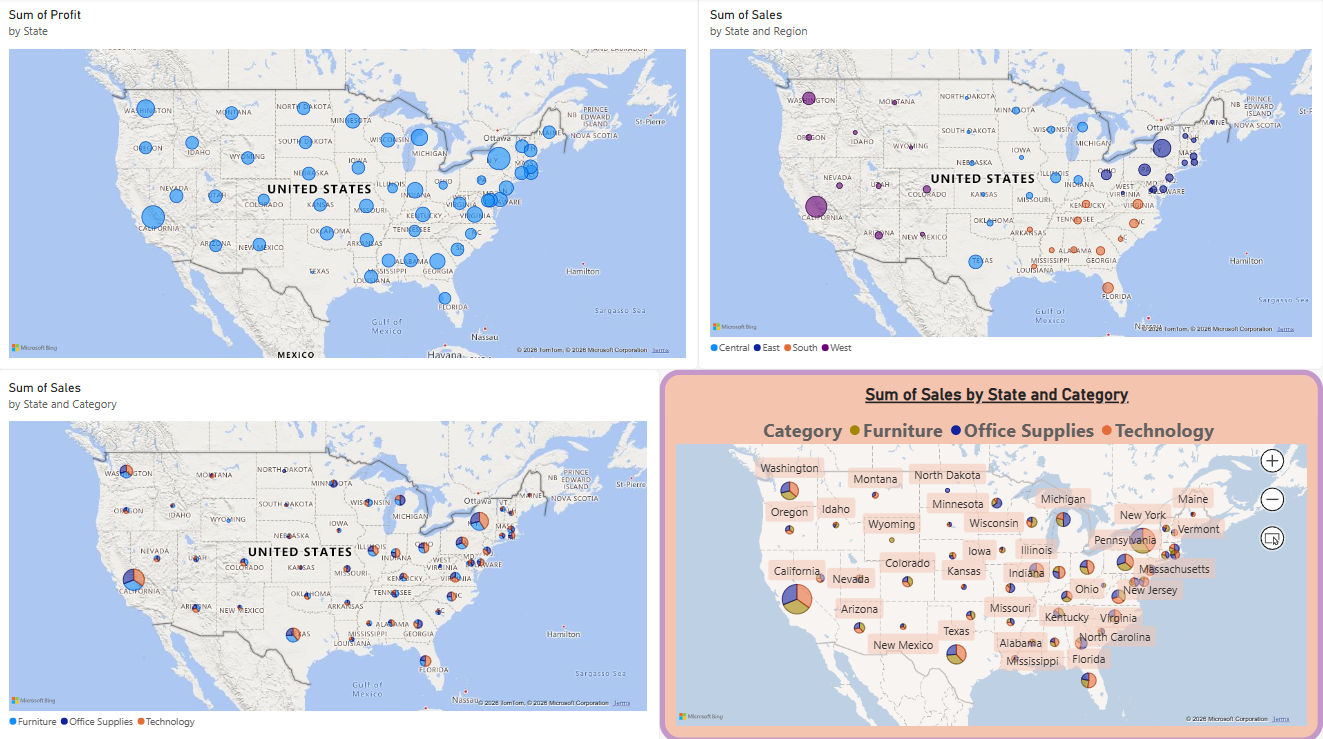

The page's visual inventory and layout, read from the dashboard file:
{"tool":"powerbi","page":{"name":"Page 1","canvas":[1920,1080],"ordinal":0},"visuals":[{"type":"map","fields":{"Category":["Sample - Superstore.State"],"Size":["Sum(Sample - Superstore.Profit)"]},"box":[0,0,1015.2,539.3],"z":0},{"type":"map","fields":{"Category":["Sample - Superstore.State"],"Series":["Sample - Superstore.Region"],"Size":["Sum(Sample - Superstore.Sales)"]},"box":[1015.2,0,904.8,539.3],"z":1},{"type":"map","fields":{"Category":["Sample - Superstore.State"],"Series":["Sample - Superstore.Category"],"Size":["Sum(Sample - Superstore.Sales)"]},"box":[0,539.3,959.1,541.1],"z":2},{"type":"map","fields":{"Category":["Sample - Superstore.State"],"Series":["Sample - Superstore.Region"],"Size":["Sum(Sample - Superstore.Sales)"]},"box":[1015.2,0,904.8,539.3],"z":3},{"type":"map","fields":{"Category":["Sample - Superstore.State"],"Series":["Sample - Superstore.Category"],"Size":["Sum(Sample - Superstore.Sales)"]},"box":[959.1,539.3,960.9,541.1],"z":4}]}

Visuals, with their boxes in screenshot pixels (x1, y1, x2, y2), scaled from the page's 1920x1080 canvas onto the 1323x739 screenshot:
map - Sample - Superstore.State x Sum(Sample - Superstore.Profit): box=[0, 0, 700, 369]
map - Sample - Superstore.State x Sample - Superstore.Region: box=[700, 0, 1322, 369]
map - Sample - Superstore.State x Sample - Superstore.Category: box=[0, 369, 661, 738]
map - Sample - Superstore.State x Sample - Superstore.Region: box=[700, 0, 1322, 369]
map - Sample - Superstore.State x Sample - Superstore.Category: box=[661, 369, 1322, 738]
